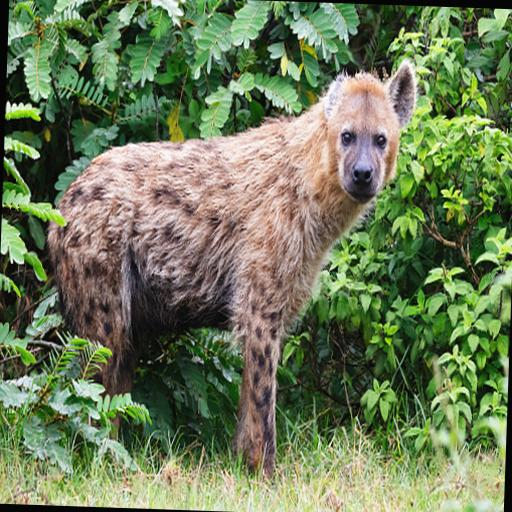hyenas: (19, 37, 429, 484)
